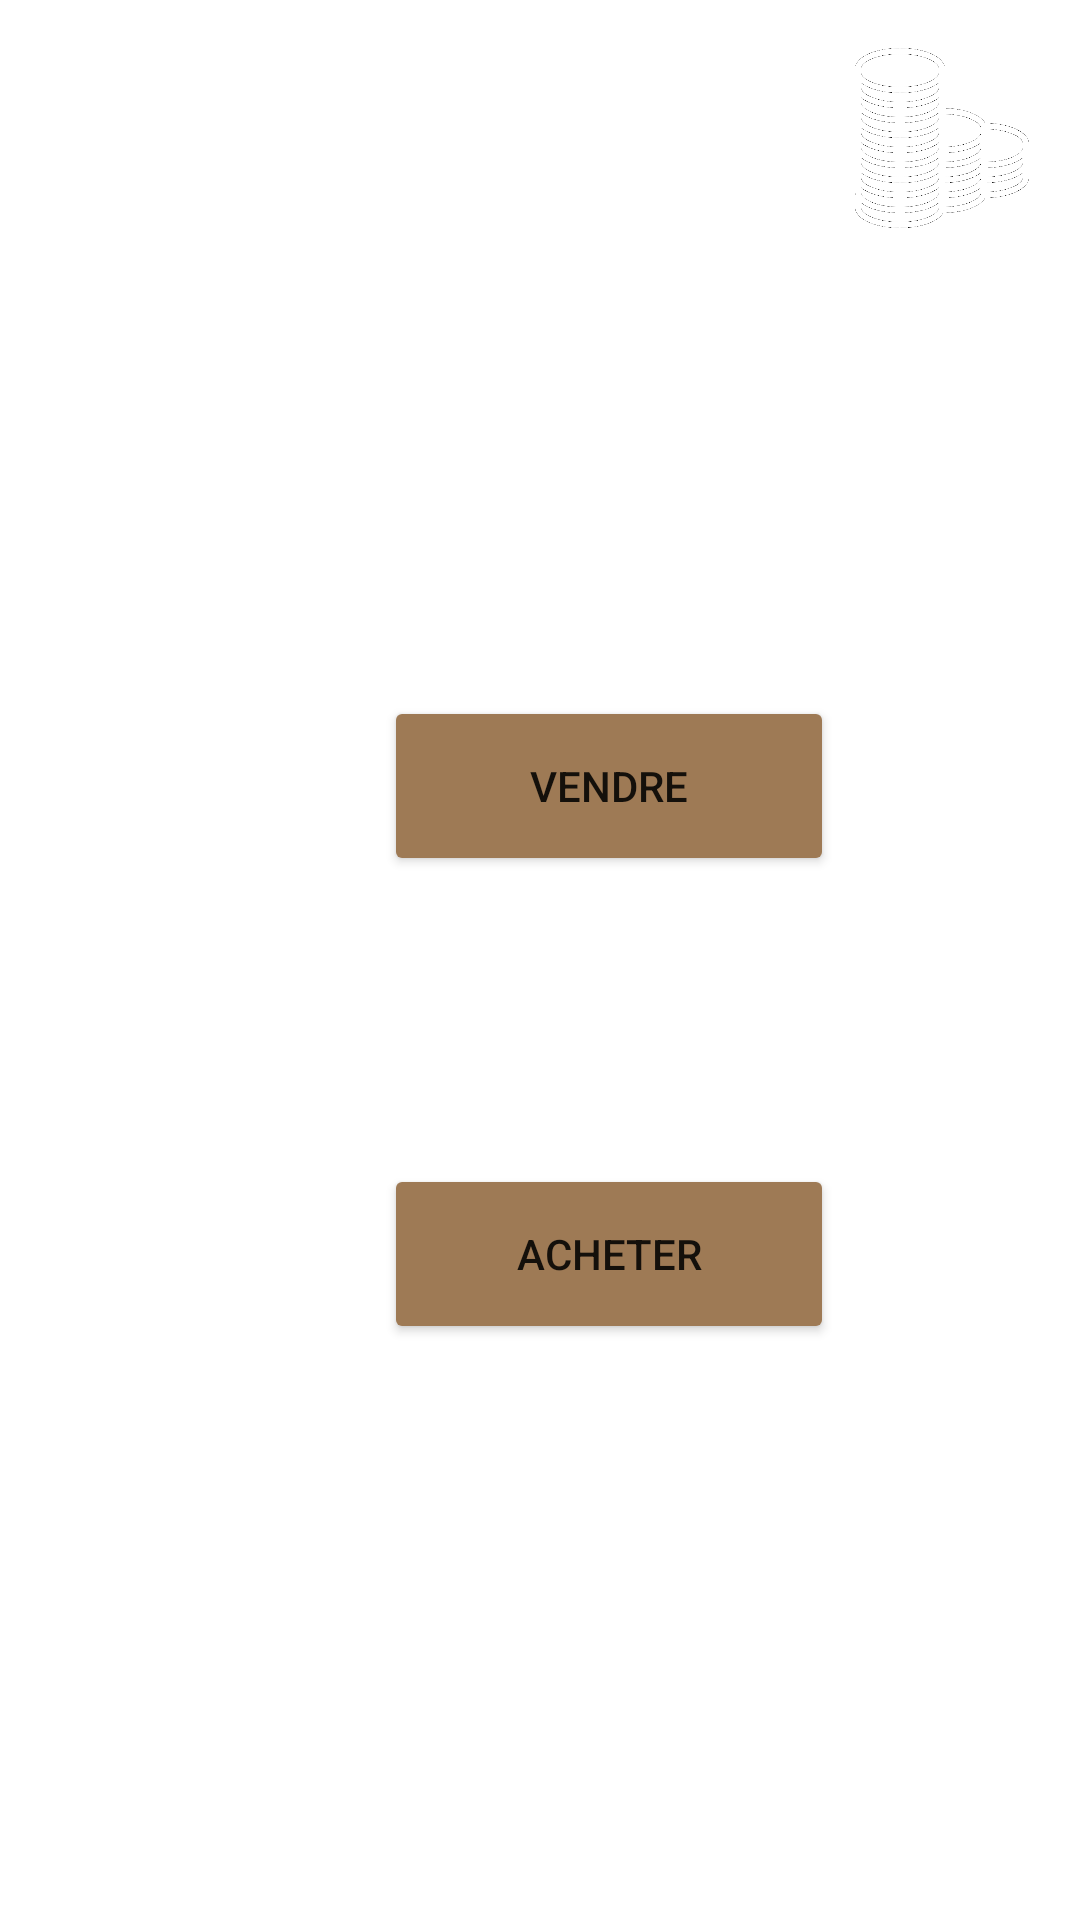

Where to tap for icons on this 1080×1920 app screen, as (x=x, y=y):
coin: (x=942, y=138)
